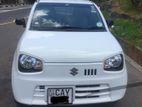car: (13, 0, 128, 107)
